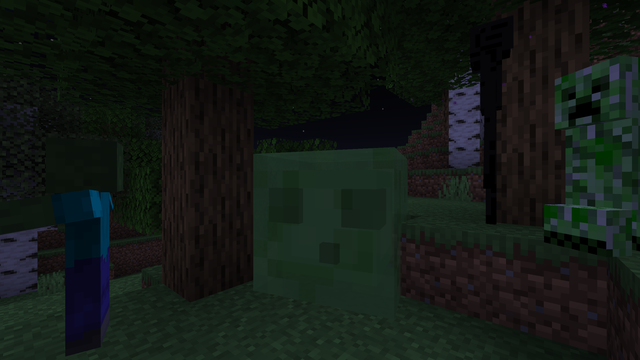creepers: (559, 49, 636, 254)
endermens: (463, 4, 517, 226)
slimes: (250, 138, 424, 327)
zombies: (44, 141, 133, 358)
